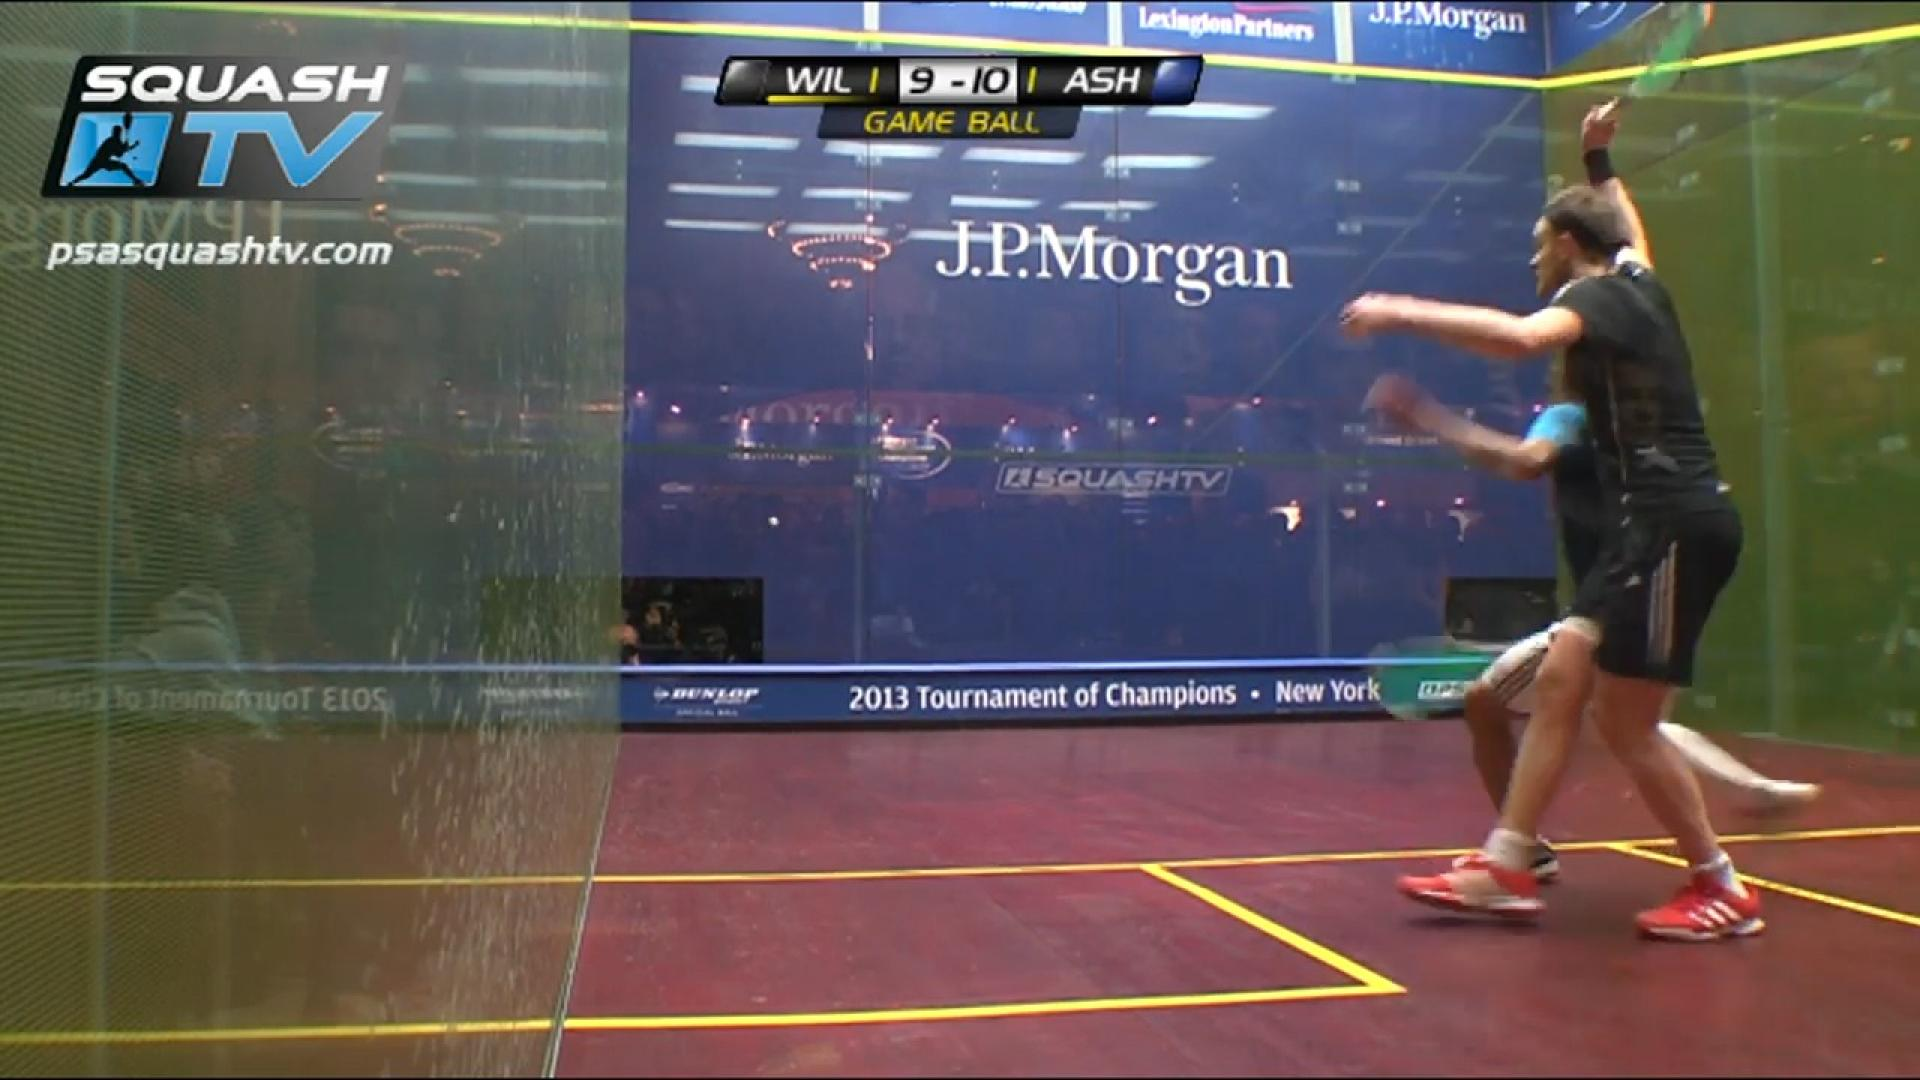Squash-Ball: (757, 504, 790, 533)
